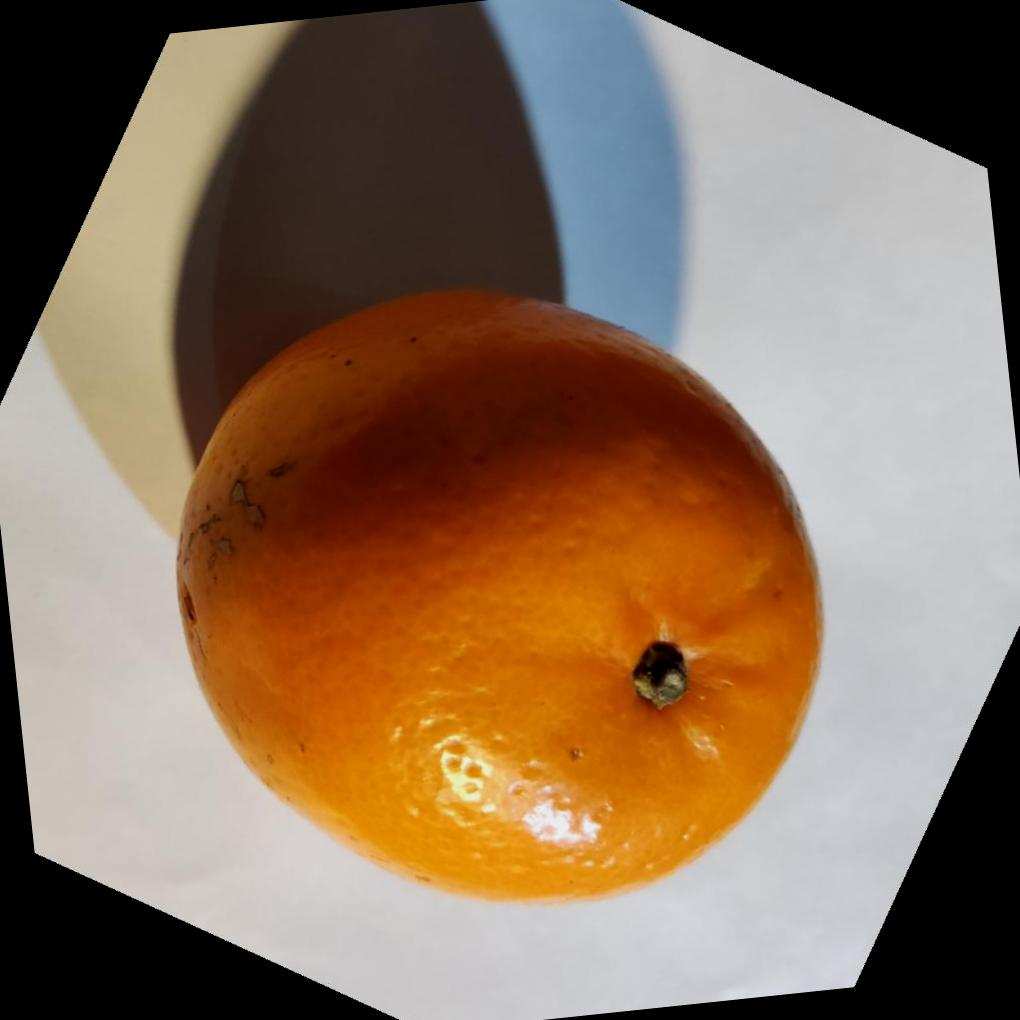FreshGuava: (168, 285, 822, 906)
